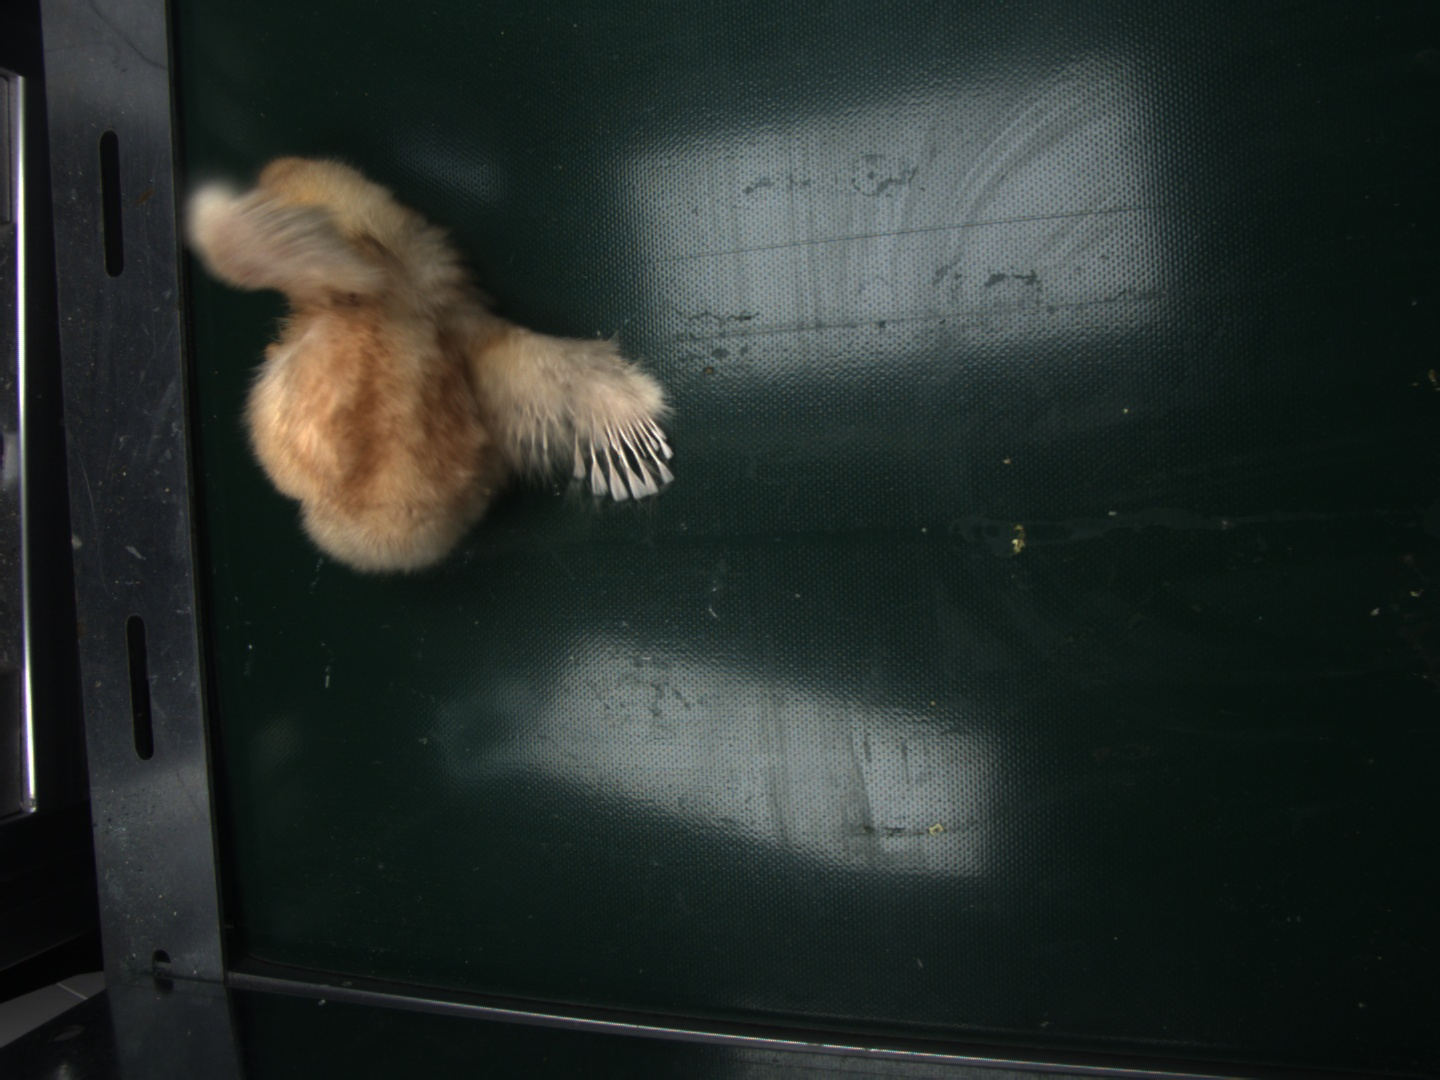female: (581, 415, 674, 501)
